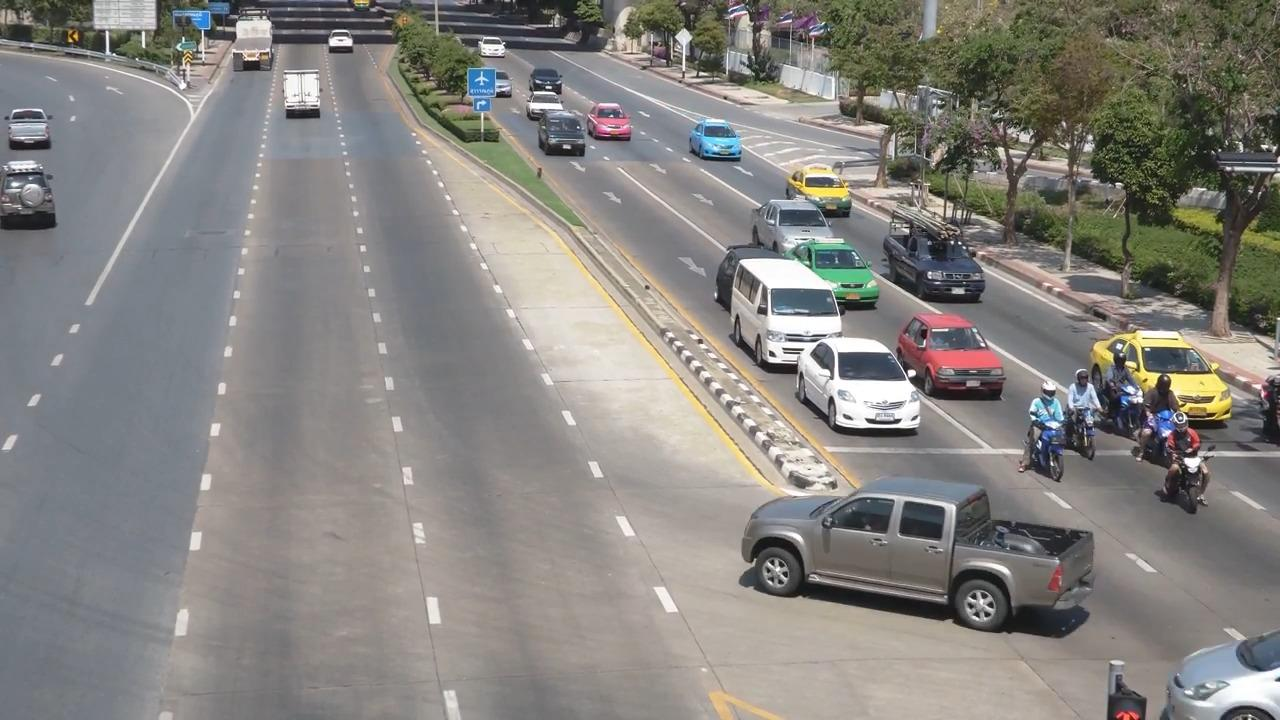CAR: (742, 463, 1096, 663), (1076, 302, 1245, 420), (793, 331, 931, 438), (734, 252, 848, 372), (883, 204, 993, 308), (904, 300, 1014, 399), (795, 230, 897, 307), (0, 155, 81, 240), (748, 186, 837, 258), (270, 58, 333, 135), (777, 159, 857, 214), (0, 109, 58, 174), (535, 109, 593, 166), (686, 120, 747, 170), (580, 101, 635, 145), (314, 19, 363, 63), (524, 58, 565, 90), (477, 31, 510, 60), (526, 86, 561, 111)
HGV_BUS: (220, 9, 285, 85)
MOTOR: (1148, 406, 1223, 508), (1011, 381, 1072, 467), (1091, 351, 1139, 441), (1051, 359, 1097, 449)
